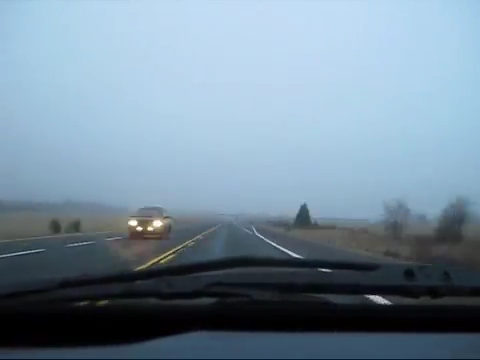car: (124, 204, 173, 239)
